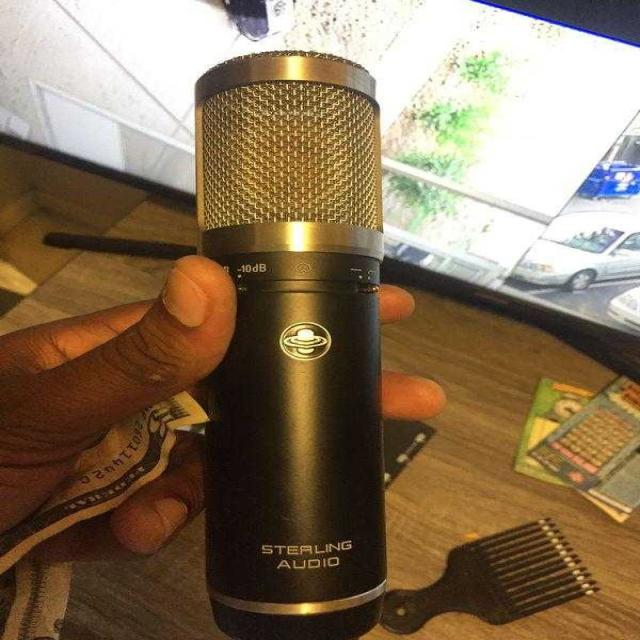microphone: (191, 60, 396, 638)
